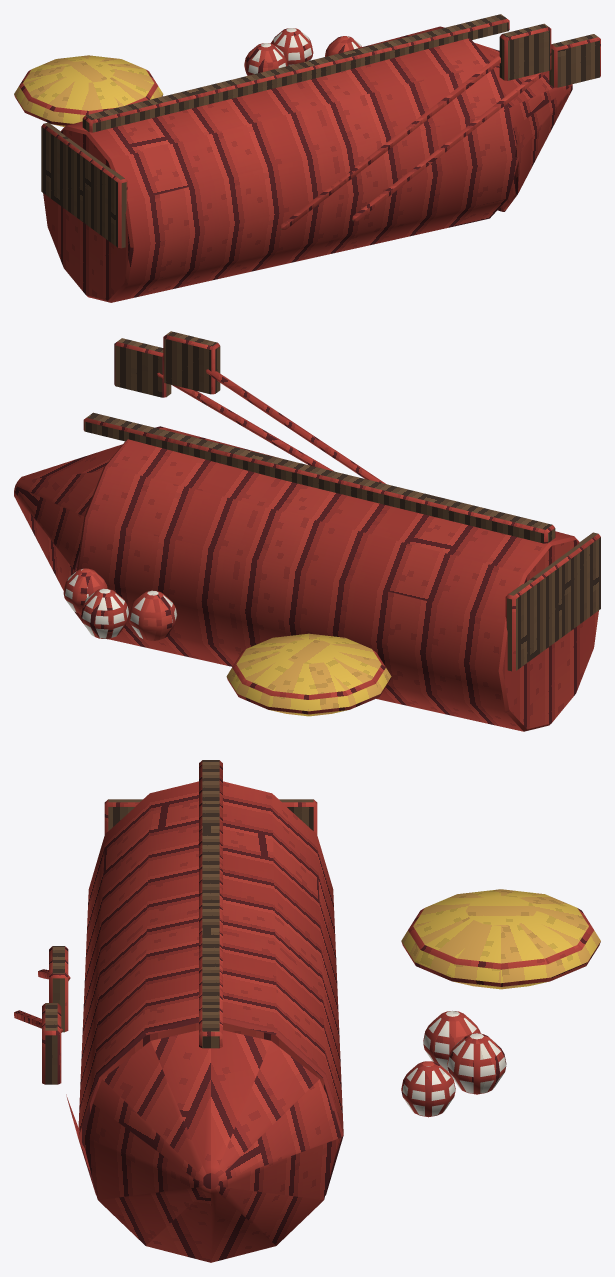
File: spec_rowboat_3.glb
3 renders of one model, top to bottom at view 1: azimuth 30°, elevation 25°; view 2: azimuth 150°, elevation 25°; view 3: azimuth 270°, elevation 25°, orthographic. The views are drawn at different scales.
Parts seen in each view (by area): view 1: spec_rowboat_3; view 2: spec_rowboat_3; view 3: spec_rowboat_3.
Boxes of the visible parts, <box> form: spec_rowboat_3: <box>14,14,600,302</box>; spec_rowboat_3: <box>14,331,600,731</box>; spec_rowboat_3: <box>14,760,600,1262</box>.
Size of the model in its own units: 3.13 by 1.36 by 2.43.
5 materials, 5 textured.
